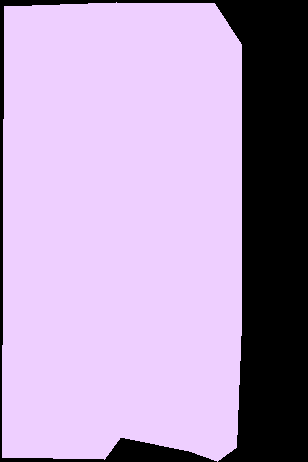Train: (2, 2, 242, 462)
